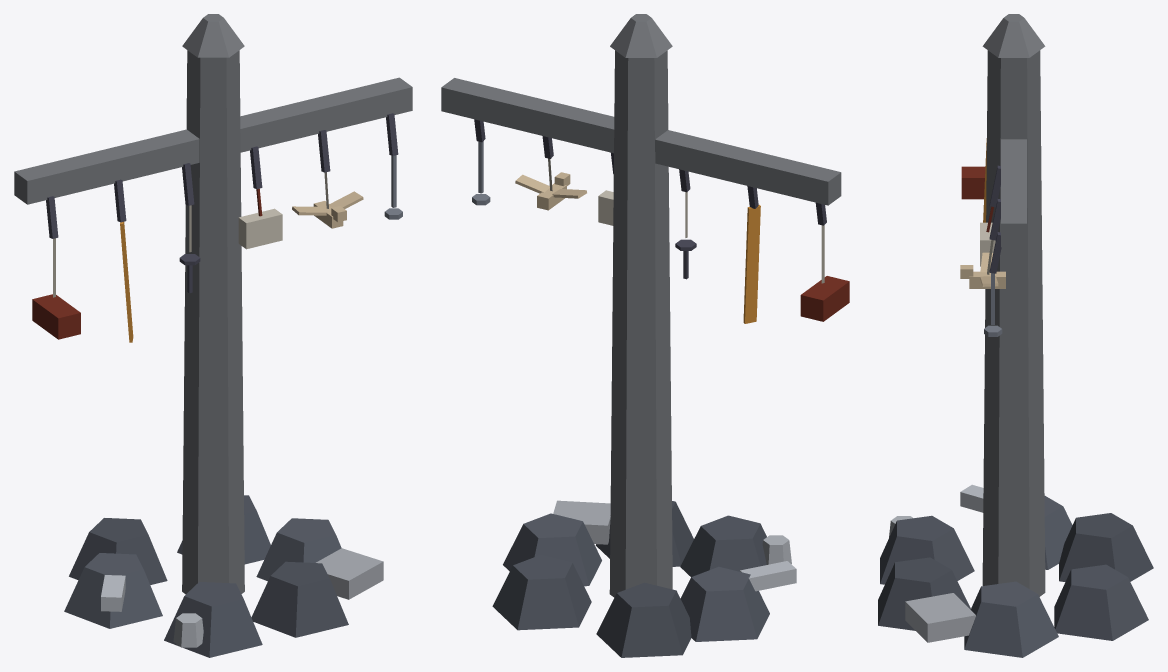
File: letting_post.glb
3 renders of one model, left to right at view 1: azimuth 30°, elevation 25°; view 2: azimuth 150°, elevation 25°; view 3: azimuth 270°, elevation 25°, orthographic.
Parts seen in each view (by area): view 1: silverfog_d40, slate_d30, slate_d20, slate_d25, ink_l20, silverfog_d15, coal_d35, bone_d15, driftwood_l10, silverfog_d10, silverfog_d5, ember_d10; view 2: silverfog_d40, slate_d25, slate_d20, slate_d30, coal_d35, ember_d10, silverfog_d15, ink_l20, driftwood_l10, silverfog_d5, silverfog_d10; view 3: silverfog_d40, slate_d25, slate_d30, slate_d20, silverfog_d15, driftwood_l10, ink_l20, coal_d35, silverfog_d5.
Boxes of the visible parts, box(x1,y1,x2,y2) form: silverfog_d40: box(14, 14, 412, 594); slate_d30: box(69, 518, 348, 637); slate_d20: box(64, 518, 341, 628); slate_d25: box(164, 495, 270, 657); ink_l20: box(46, 113, 398, 293); silverfog_d15: box(316, 548, 383, 599); coal_d35: box(32, 294, 80, 339); bone_d15: box(238, 208, 282, 249); driftwood_l10: box(292, 191, 363, 228); silverfog_d10: box(173, 613, 203, 647); silverfog_d5: box(101, 575, 125, 611); ember_d10: box(120, 221, 133, 342); silverfog_d40: box(441, 14, 841, 597); slate_d25: box(492, 515, 766, 630); slate_d20: box(503, 513, 769, 641); slate_d30: box(595, 501, 693, 657); coal_d35: box(800, 276, 849, 321); ember_d10: box(743, 204, 760, 323); silverfog_d15: box(553, 500, 610, 544); ink_l20: box(474, 119, 826, 279); driftwood_l10: box(515, 172, 586, 210); silverfog_d5: box(740, 561, 796, 591); silverfog_d10: box(762, 535, 791, 564); silverfog_d40: box(982, 14, 1045, 596); slate_d25: box(880, 515, 1148, 640); slate_d30: box(878, 513, 1153, 630); slate_d20: box(964, 496, 1072, 657); silverfog_d15: box(905, 593, 975, 642); driftwood_l10: box(960, 252, 1005, 288); ink_l20: box(989, 165, 1001, 273); coal_d35: box(961, 166, 985, 199); silverfog_d5: box(960, 484, 983, 512).
Size of the model in its own units: 1.7 by 2.42 by 1.05.
